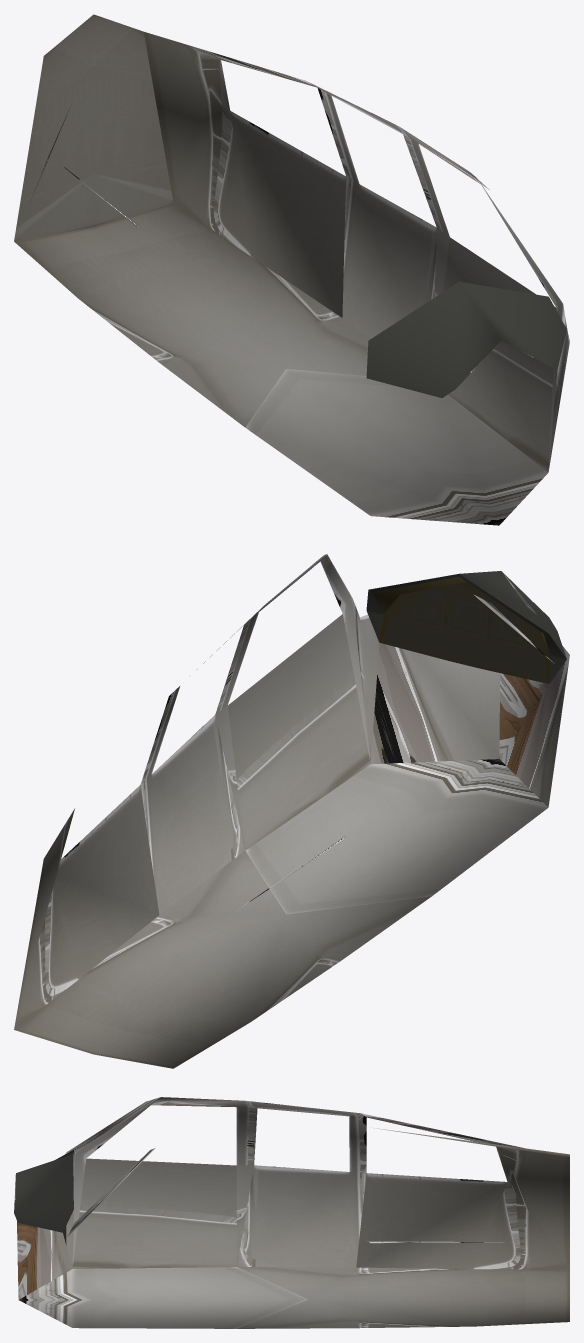
File: GaugeAircraft_Interior_LOD04.gltf
3 views of the same model, one above another, from view 1: azimuth 30°, elevation 25°; view 2: azimuth 150°, elevation 25°; view 3: azimuth 270°, elevation 25° (orthographic). The views are drawn at different scales.
Parts seen in each view (by area): view 1: Interior; view 2: Interior; view 3: Interior.
Part boxes in pixels (<box>): Interior: <box>14,14,569,525</box>; Interior: <box>14,554,569,1068</box>; Interior: <box>14,1097,569,1328</box>.
Size of the model in its own units: 1.15 by 1.36 by 3.67.
